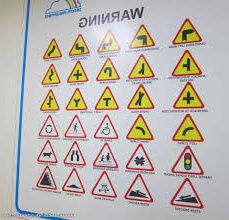Double_bend_right: (97, 29, 120, 53)
